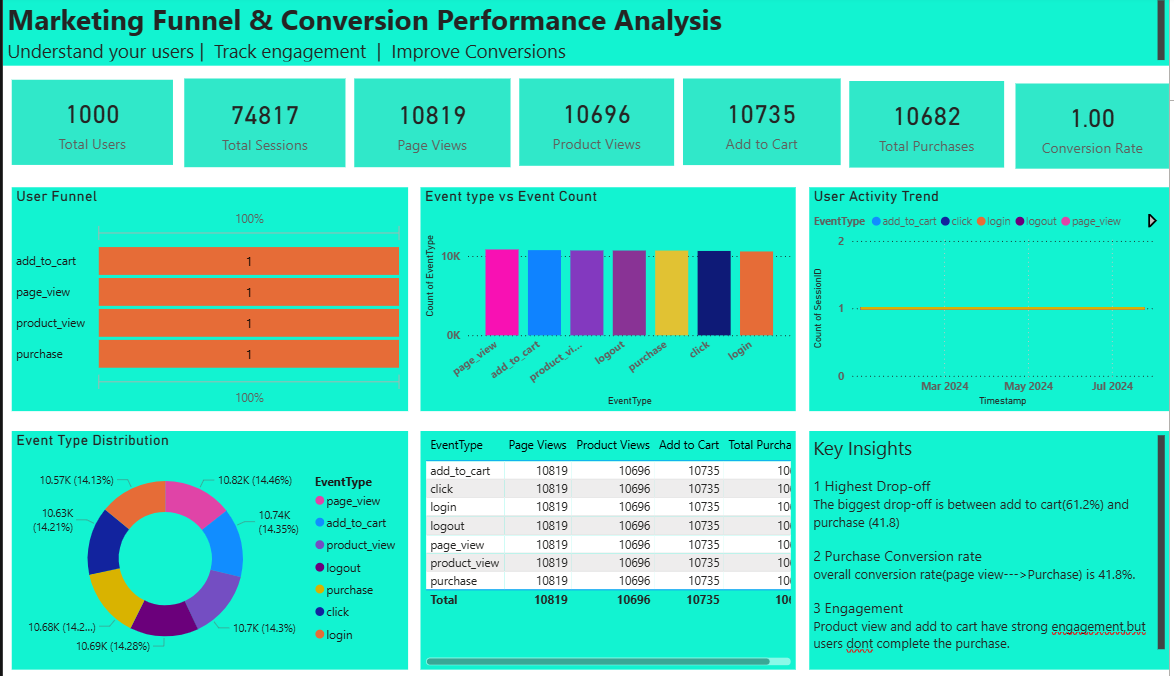

This screenshot's page, from the dashboard's own definition file:
{"tool":"powerbi","page":{"name":"Page 1","canvas":[1325,819],"ordinal":0},"visuals":[{"type":"card","fields":{"Values":["Table1.Total Users"]},"box":[9.9,95.2,183.2,96.6],"z":0},{"type":"card","fields":{"Values":["CountNonNull(Table1.SessionID)"]},"box":[206,93.8,183.2,100.9],"z":1},{"type":"card","fields":{"Values":["Table1.Product Views"]},"box":[586.6,93.8,176.1,99.4],"z":2},{"type":"card","fields":{"Values":["Table1.Page Views"]},"box":[399.1,93.8,177.6,100.9],"z":3},{"type":"card","fields":{"Values":["Table1.Add to Cart"]},"box":[772.7,93.8,179,98],"z":4},{"type":"card","fields":{"Values":["Table1.Total Purchases"]},"box":[961.7,96.6,176.1,98],"z":5},{"type":"card","fields":{"Values":["Table1.Conversion Rate"]},"box":[1150.6,99.4,174.7,96.6],"z":6},{"type":"funnel","title":"User Funnel","fields":{"Category":["Table1.EventType"],"Y":["Count(Table1.EventType)"]},"box":[9.9,217.3,450.3,254.3],"z":7},{"type":"clusteredColumnChart","title":"Event type vs Event Count","fields":{"Category":["Table1.EventType"],"Y":["CountNonNull(Table1.EventType)"]},"box":[474.4,217.3,426.1,254.3],"z":8},{"type":"lineChart","title":"User Activity Trend","fields":{"Category":["Table1.Timestamp"],"Y":["CountNonNull(Table1.SessionID)"],"Series":["Table1.EventType"]},"box":[916.2,217.3,409.1,254.3],"z":9},{"type":"donutChart","title":"Event Type Distribution","fields":{"Category":["Table1.EventType"],"Y":["CountNonNull(Table1.EventType)"]},"box":[9.9,494.3,450.3,271.3],"z":10},{"type":"tableEx","fields":{"Values":["Table1.EventType","Table1.Page Views","Table1.Product Views","Table1.Add to Cart","Table1.Total Purchases"]},"box":[474.4,494.3,426.1,271.3],"z":11},{"type":"textbox","box":[916.2,494.3,409.1,271.3],"z":12},{"type":"textbox","box":[0,0,1325.3,79.5],"z":13}]}

Visuals, with their boxes on the page's 1325x819 design canvas (x1, y1, x2, y2). These are canvas units, not pixel positions in the 1174x676 screenshot, which may show the page scaled, cropped or inside an application window:
card - Table1.Total Users: locate(10, 95, 193, 192)
card - CountNonNull(Table1.SessionID): locate(206, 94, 389, 195)
card - Table1.Product Views: locate(587, 94, 763, 193)
card - Table1.Page Views: locate(399, 94, 577, 195)
card - Table1.Add to Cart: locate(773, 94, 952, 192)
card - Table1.Total Purchases: locate(962, 97, 1138, 195)
card - Table1.Conversion Rate: locate(1151, 99, 1325, 196)
"User Funnel" funnel: locate(10, 217, 460, 472)
"Event type vs Event Count" clusteredColumnChart: locate(474, 217, 900, 472)
"User Activity Trend" lineChart: locate(916, 217, 1325, 472)
"Event Type Distribution" donutChart: locate(10, 494, 460, 766)
tableEx - Table1.EventType x Table1.Page Views: locate(474, 494, 900, 766)
textbox: locate(916, 494, 1325, 766)
textbox: locate(0, 0, 1325, 80)
